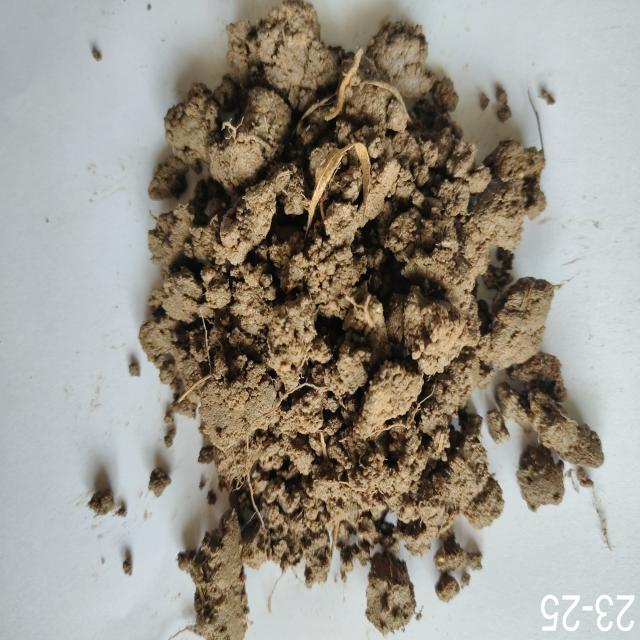soil: (205, 126, 470, 499)
